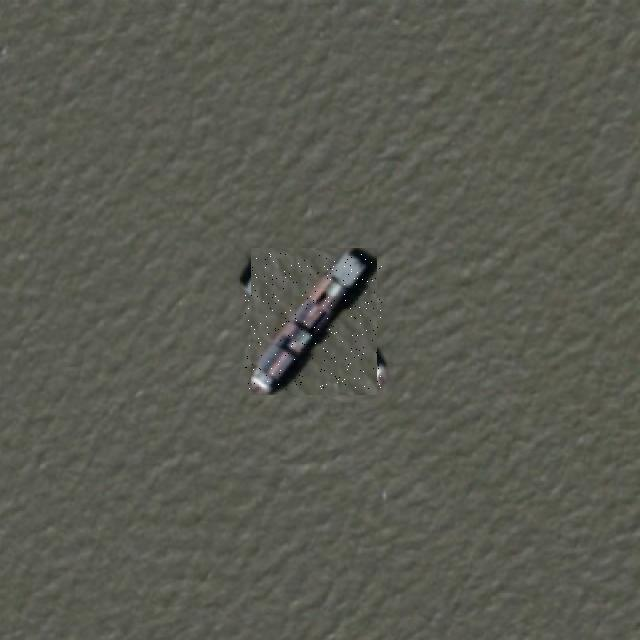boat: (245, 253, 382, 390)
